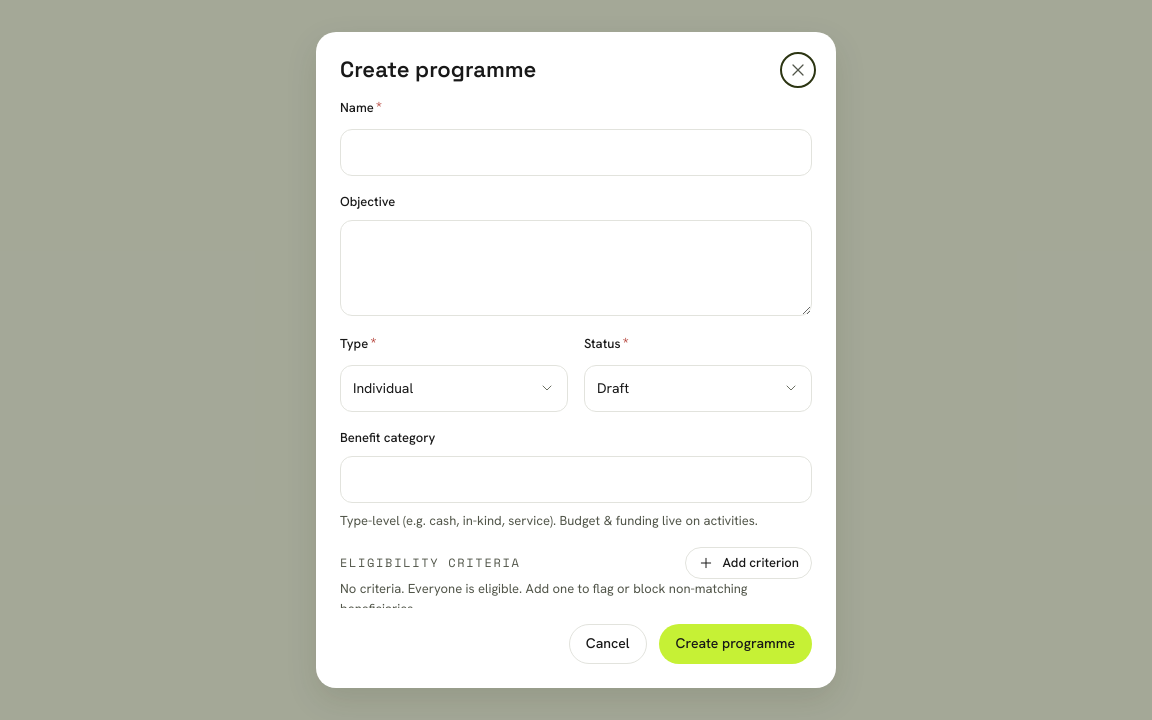
Test: ProgrammeFormModal › validates that a name is required
What coordinates should you click on to do the following:
click the button "Create programme"
I would click on:
 (735, 644)
Its box is [659,624,812,664].
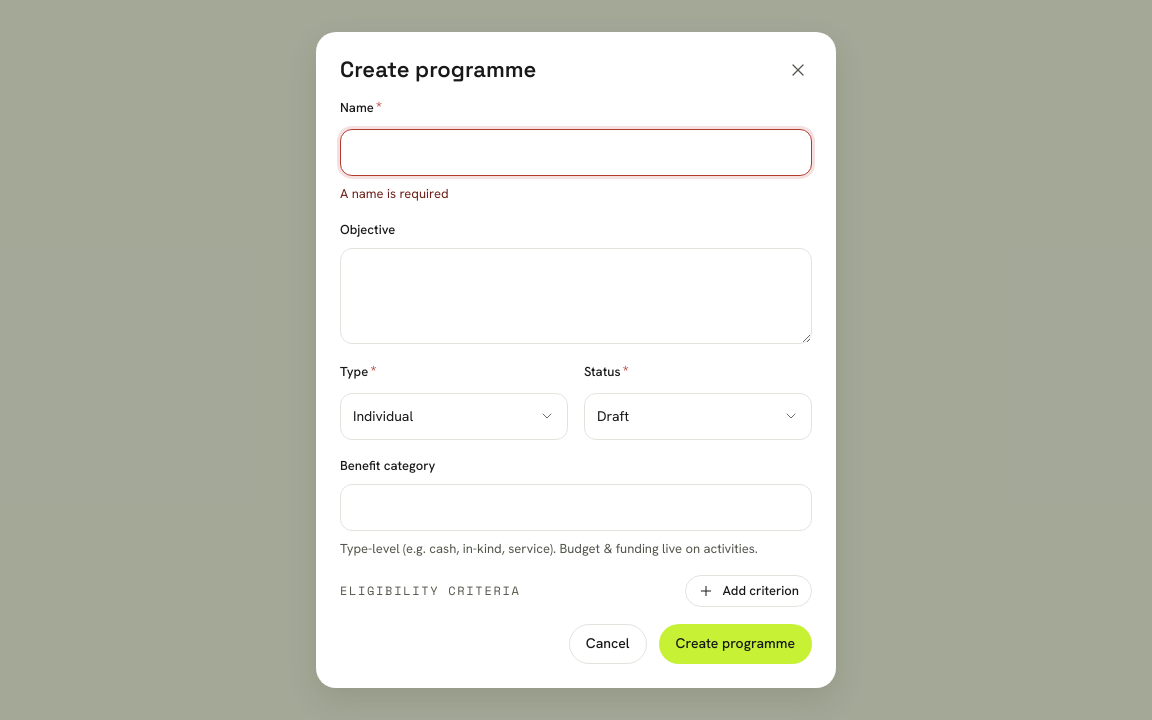
Check: the text "A name is required" is shown, box [340,185,449,202]
